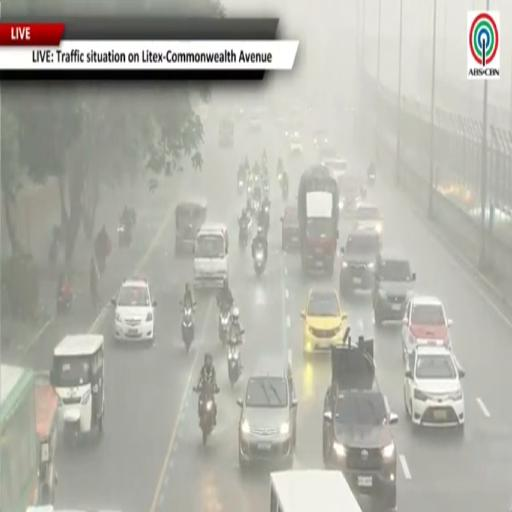bus: (0, 365, 38, 511), (270, 470, 361, 511)
car: (323, 333, 398, 509), (237, 356, 297, 470), (404, 344, 465, 428), (373, 250, 416, 326), (301, 287, 348, 356), (402, 296, 452, 360), (339, 229, 381, 296), (112, 279, 156, 342), (194, 223, 229, 289), (338, 170, 366, 216), (354, 202, 383, 234), (281, 206, 300, 250), (322, 157, 348, 179), (219, 119, 234, 148), (316, 140, 337, 159), (248, 109, 263, 133), (313, 128, 329, 149), (290, 131, 302, 156)
jeepney: (176, 199, 207, 254)
motorcycle: (194, 384, 218, 444), (227, 330, 244, 386), (180, 301, 195, 353), (57, 287, 74, 314), (219, 308, 231, 345), (254, 246, 266, 276), (118, 223, 132, 248), (239, 219, 250, 248), (238, 178, 245, 195), (282, 182, 288, 201), (368, 172, 375, 186), (253, 199, 260, 212), (246, 183, 252, 197), (264, 183, 269, 196), (277, 171, 282, 183)
truck: (298, 165, 339, 275)
